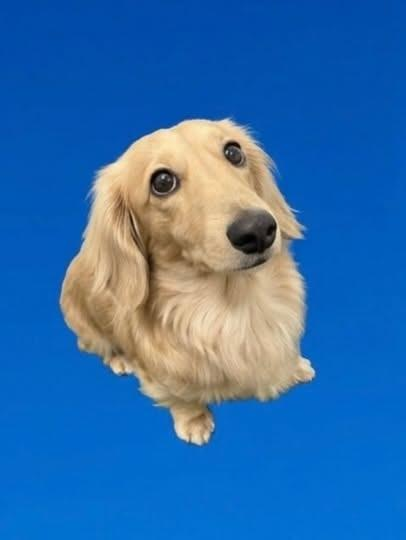adult_dog: (57, 115, 319, 448)
